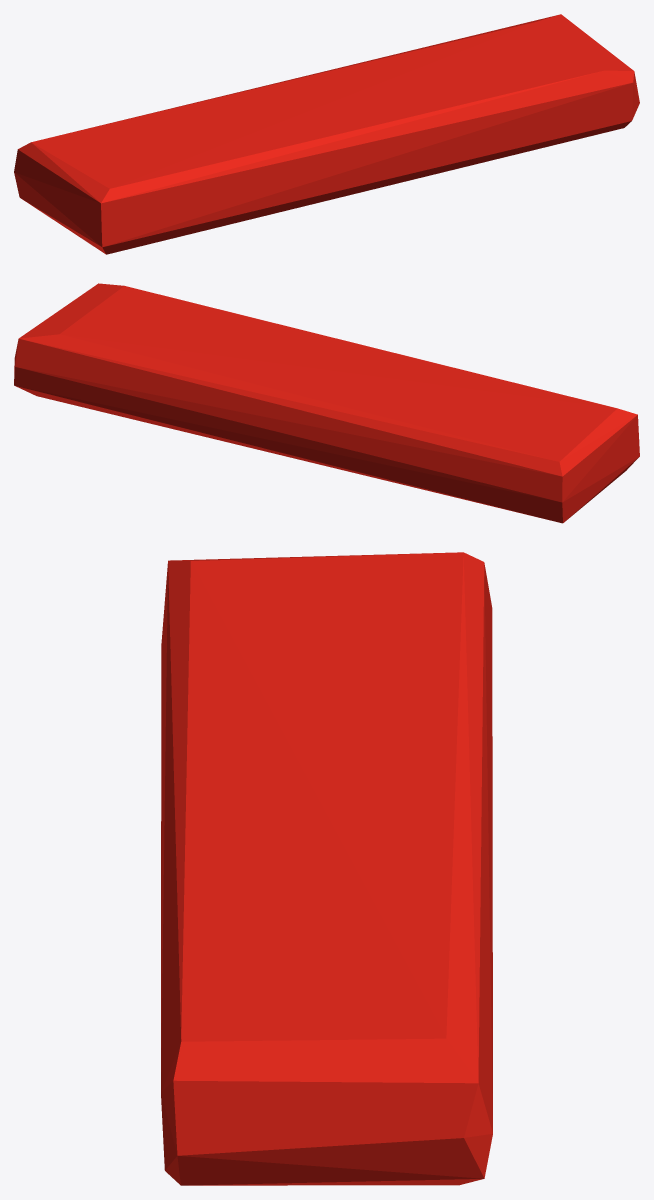
The model's file is Debri_01.fbx.
3 views of the same model, one above another, from view 1: azimuth 30°, elevation 25°; view 2: azimuth 150°, elevation 25°; view 3: azimuth 270°, elevation 25° (orthographic). The views are drawn at different scales.
Visible parts, largest first — view 1: Cube.009; view 2: Cube.009; view 3: Cube.009.
Boxes of the visible parts, x1=… form: Cube.009: x1=14, y1=14, x2=639, y2=254; Cube.009: x1=14, y1=283, x2=639, y2=523; Cube.009: x1=161, y1=552, x2=492, y2=1185.
Bounding box in the file's own units: 431 × 47.72 × 113.
